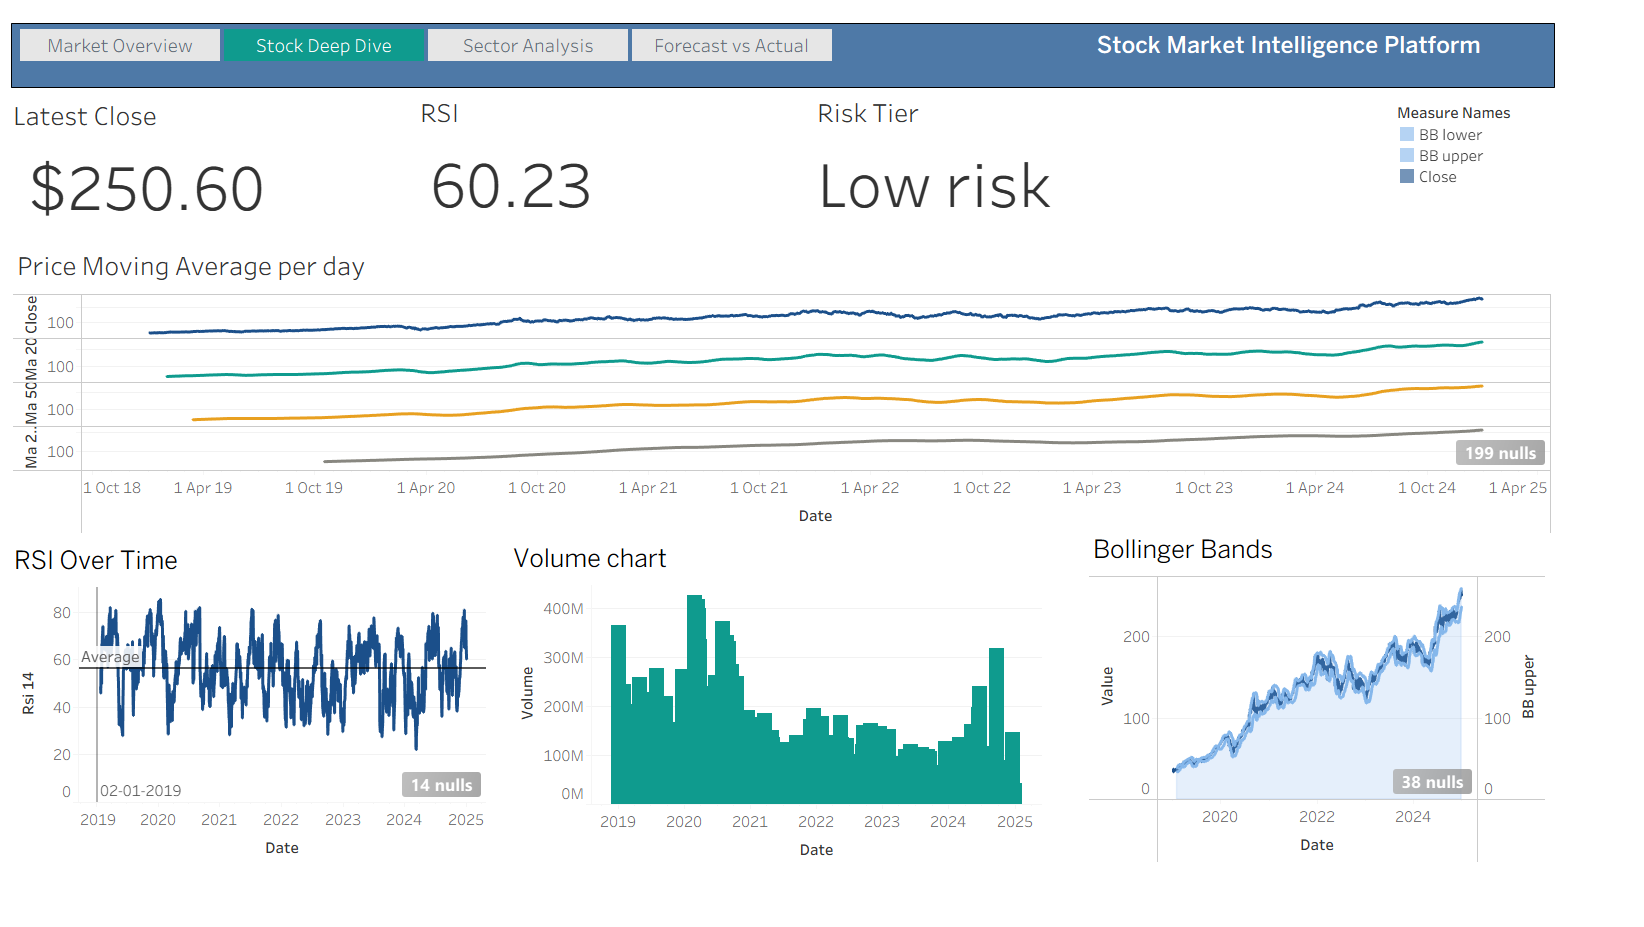

This screenshot's page, from the dashboard's own definition file:
{"tool":"tableau","page":{"name":"Stock Deep Dive","canvas":[1600,850],"ordinal":3},"visuals":[{"type":"worksheet","title":"NAV_BAR","mark":"Automatic","box":[27,10,1544,65]},{"type":"dashboard-object","box":[36,16,200,32]},{"type":"dashboard-object","box":[240,16,200,32]},{"type":"dashboard-object","box":[444,16,200,32]},{"type":"dashboard-object","box":[648,16,200,32]},{"type":"text","box":[1050,16,450,32]},{"type":"worksheet","title":"KPI2_RSI","mark":"Automatic","box":[432,78,533,139]},{"type":"worksheet","title":"KPI2_RiskTier","mark":"Automatic","box":[829,78,591,138]},{"type":"worksheet","title":"KPI2_LatestClose","mark":"Automatic","box":[25,81,280,185]},{"type":"legend","title":"CH2_Bollinger","param":"[federated.0dalfoi0svi07s19630120ndhttj].[:Measure Names]","box":[1413,89,140,85]},{"type":"worksheet","title":"CH2_PriceMA","mark":"Automatic","rows":["Close","MA_20","MA_50","MA_200"],"cols":["Date"],"box":[29,231,1538,290]},{"type":"worksheet","title":"CH2_Bollinger","mark":"Automatic","rows":["BB_upper"],"cols":["Date"],"box":[1105,516,457,334]},{"type":"worksheet","title":"CH2_Volume","mark":"Bar","rows":["Volume"],"cols":["Date"],"box":[525,525,533,329]},{"type":"worksheet","title":"CH2_RSITime","mark":"Automatic","rows":["RSI_14"],"cols":["Date"],"box":[26,527,476,325]}]}

Visuals, with their boxes on the page's 1600x850 design canvas (x1, y1, x2, y2). These are canvas units, not pixel positions in the 1644x927 screenshot, which may show the page scaled, cropped or inside an application window:
"NAV_BAR" worksheet: pyautogui.locateOnScreen(27, 10, 1571, 75)
dashboard-object: pyautogui.locateOnScreen(36, 16, 236, 48)
dashboard-object: pyautogui.locateOnScreen(240, 16, 440, 48)
dashboard-object: pyautogui.locateOnScreen(444, 16, 644, 48)
dashboard-object: pyautogui.locateOnScreen(648, 16, 848, 48)
text: pyautogui.locateOnScreen(1050, 16, 1500, 48)
"KPI2_RSI" worksheet: pyautogui.locateOnScreen(432, 78, 965, 217)
"KPI2_RiskTier" worksheet: pyautogui.locateOnScreen(829, 78, 1420, 216)
"KPI2_LatestClose" worksheet: pyautogui.locateOnScreen(25, 81, 305, 266)
"CH2_Bollinger" legend: pyautogui.locateOnScreen(1413, 89, 1553, 174)
"CH2_PriceMA" worksheet: pyautogui.locateOnScreen(29, 231, 1567, 521)
"CH2_Bollinger" worksheet: pyautogui.locateOnScreen(1105, 516, 1562, 850)
"CH2_Volume" worksheet (Bar marks): pyautogui.locateOnScreen(525, 525, 1058, 854)
"CH2_RSITime" worksheet: pyautogui.locateOnScreen(26, 527, 502, 852)
